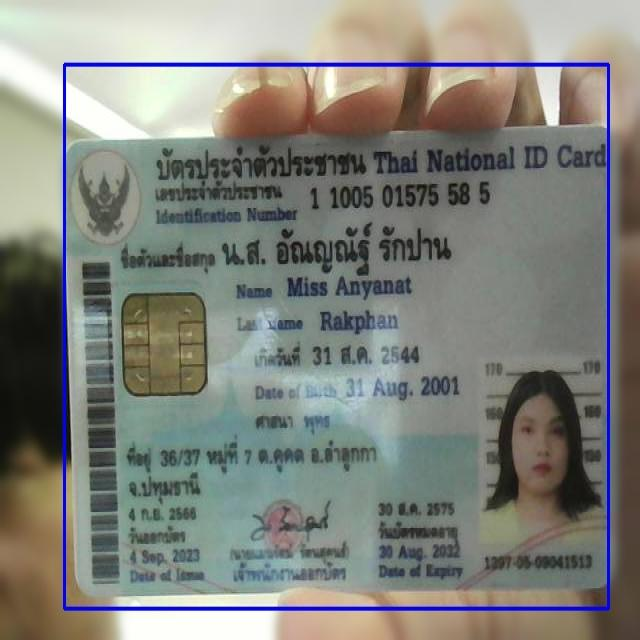Address_th: (120, 432, 396, 509)
Date_of_Birth: (344, 374, 463, 406)
Date_of_Expiry: (374, 540, 464, 566)
Date_of_Issue: (126, 545, 206, 569)
First_Name: (283, 271, 414, 305)
ID_Number: (308, 177, 497, 214)
Image: (480, 360, 606, 551)
Last_Name: (317, 305, 403, 338)
Thai_Name: (214, 220, 460, 276)
